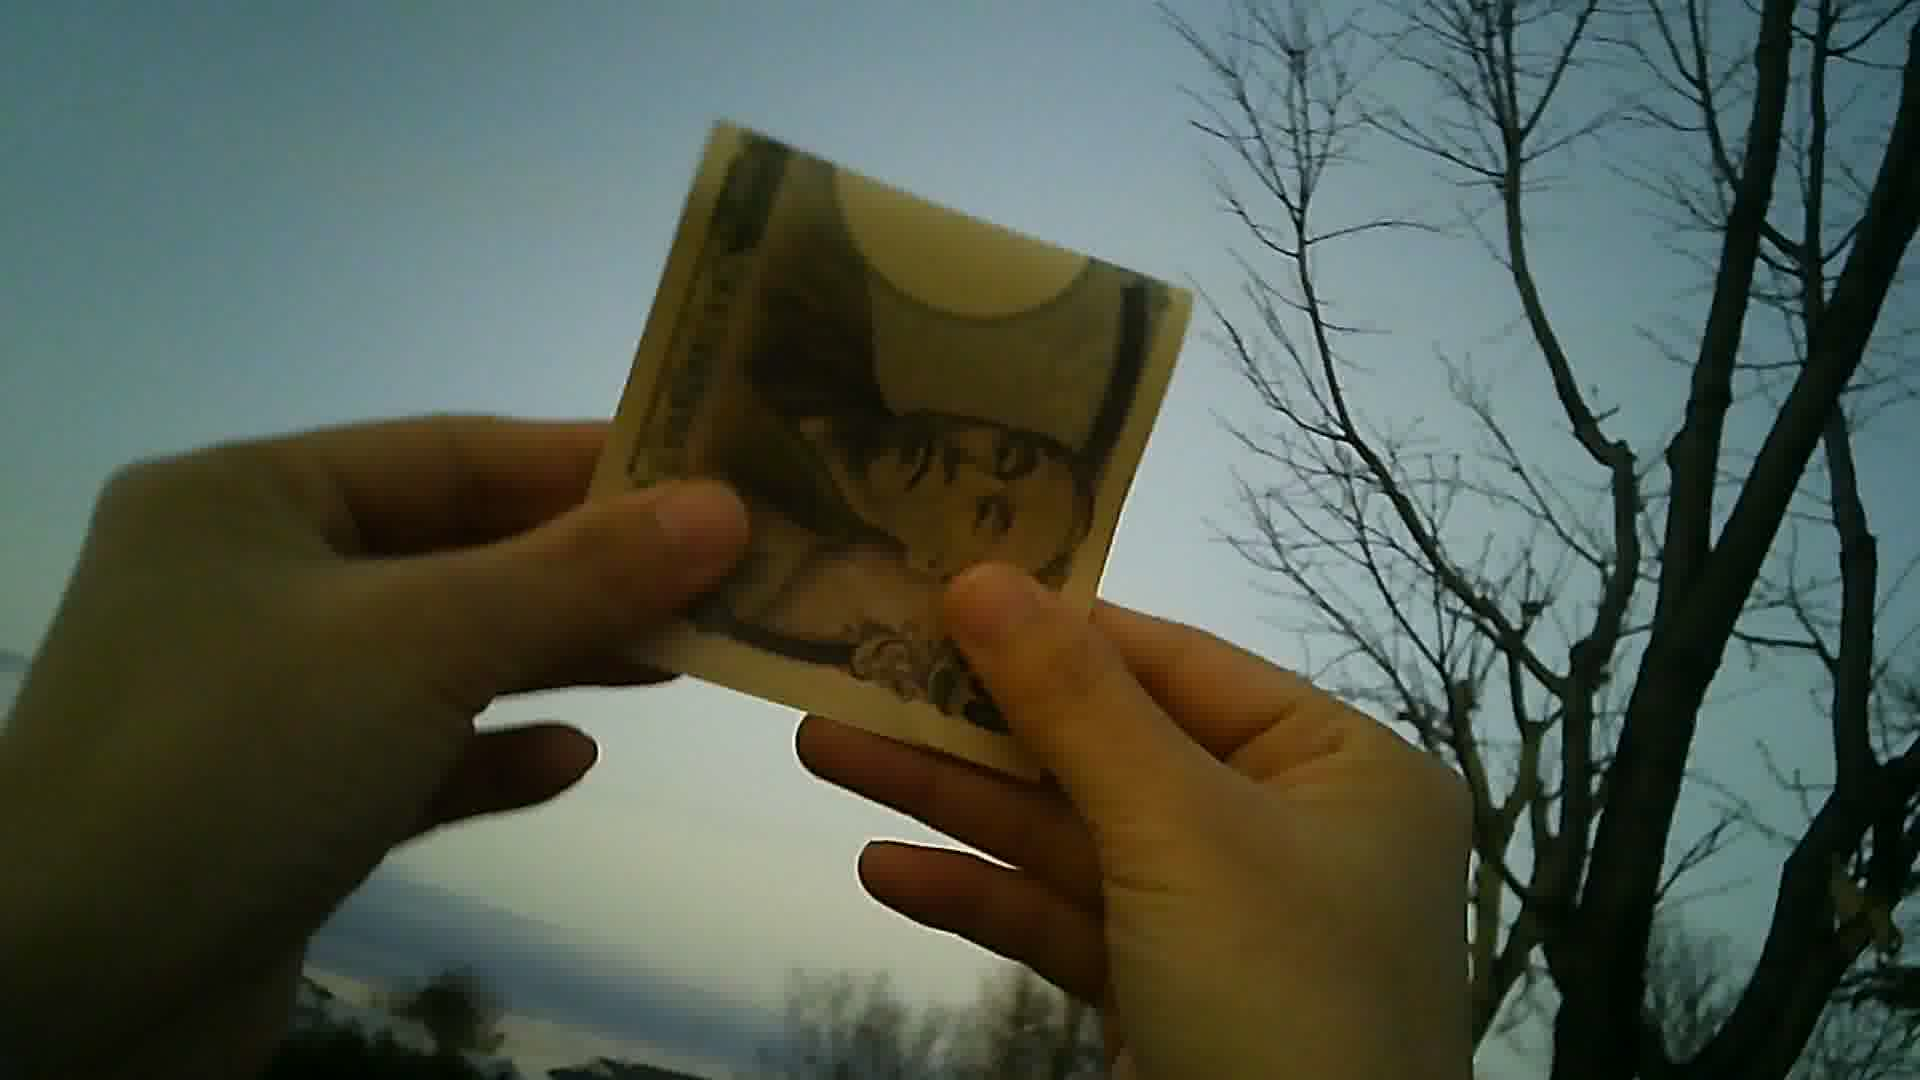10,000 Yen: (553, 102, 1218, 808)
